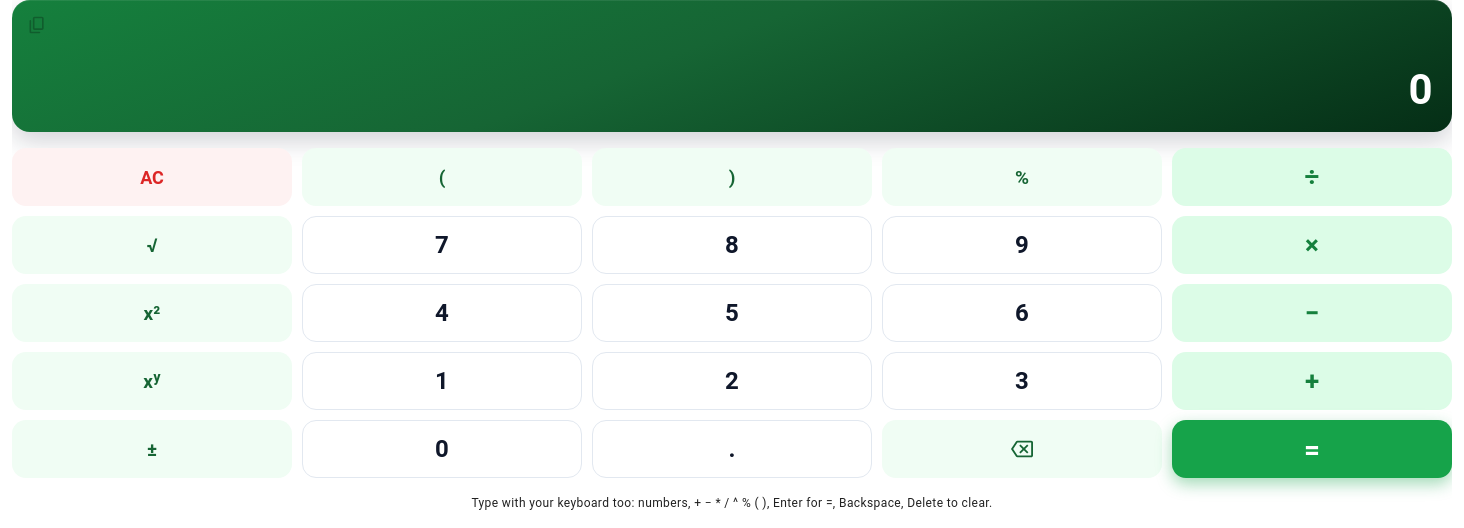
Test: StandardCalculator › shows a friendly message for divide by zero
The image size is (1464, 528).
Click the button "5": (732,313) [592, 284, 872, 342]
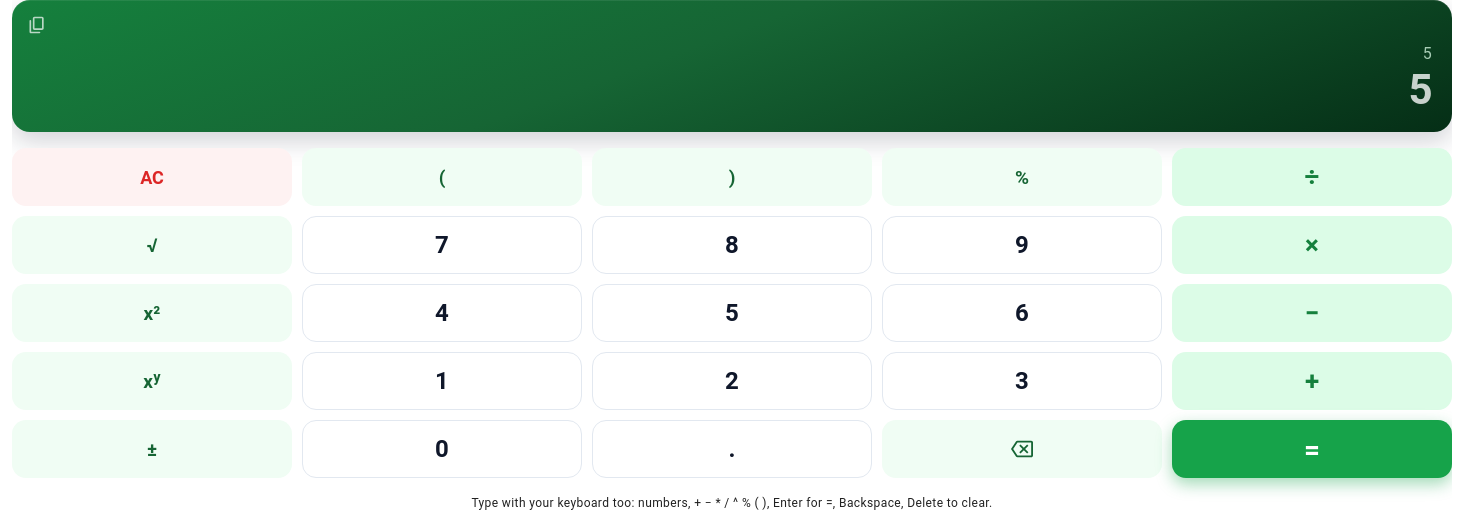
Click the button named "Divide": (1312,177) [1172, 148, 1452, 206]
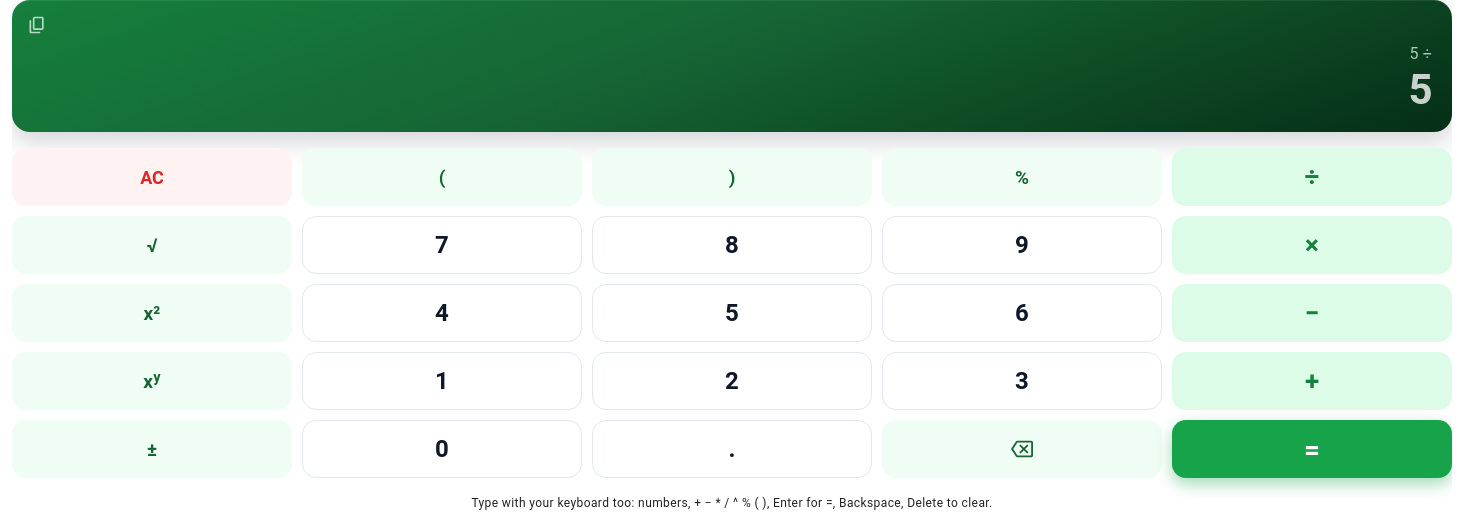
Click the button "0": (442,449) [302, 420, 582, 478]
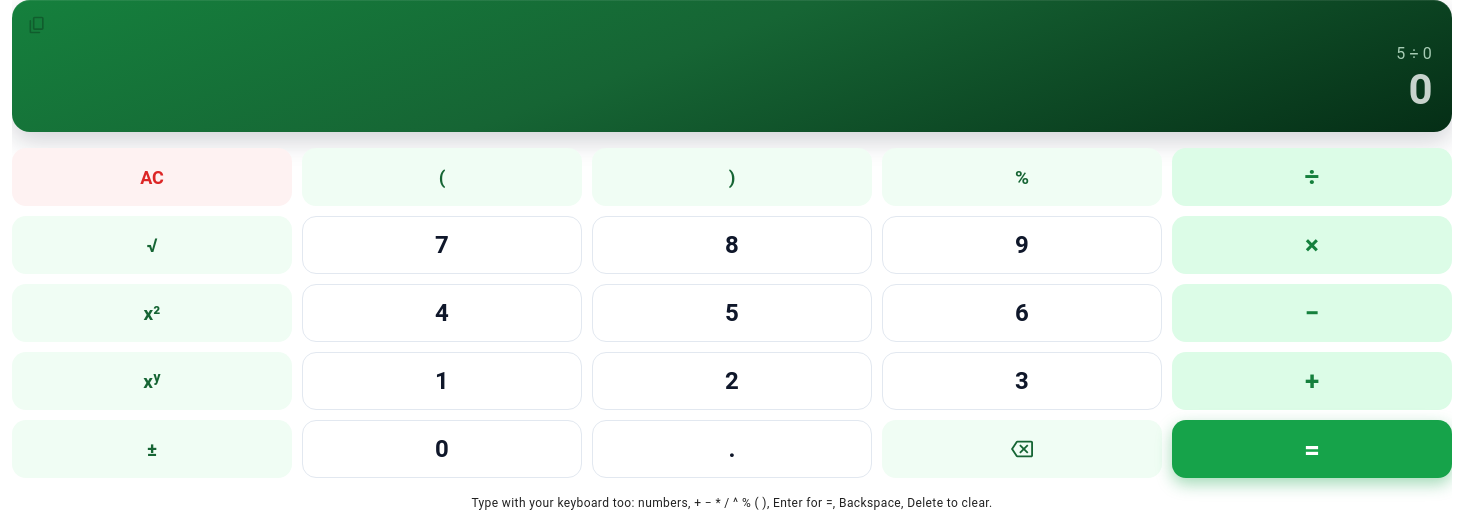
Click the button named "Equals": (1312,449) [1172, 420, 1452, 478]
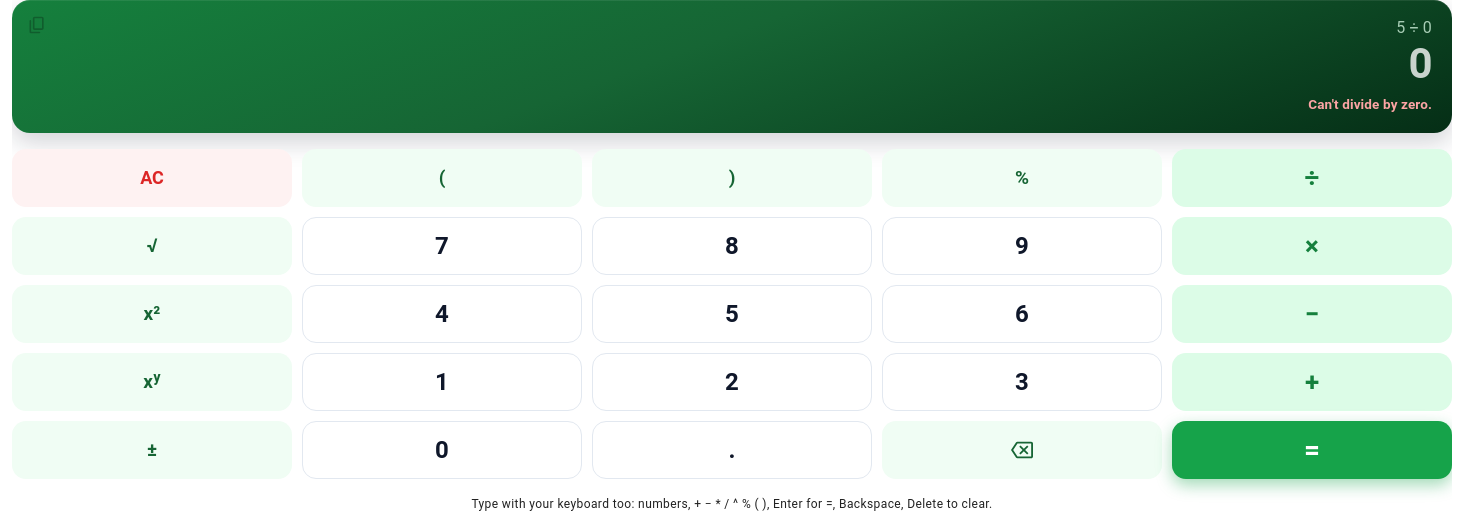
Now the message reads "Can't divide by zero.", box [1308, 96, 1432, 112]
